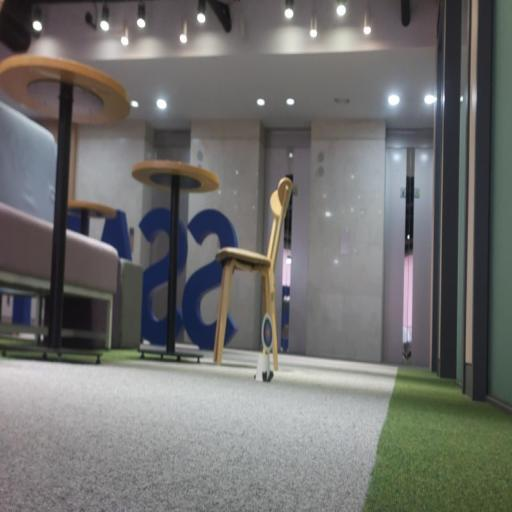target: (262, 314, 275, 351)
